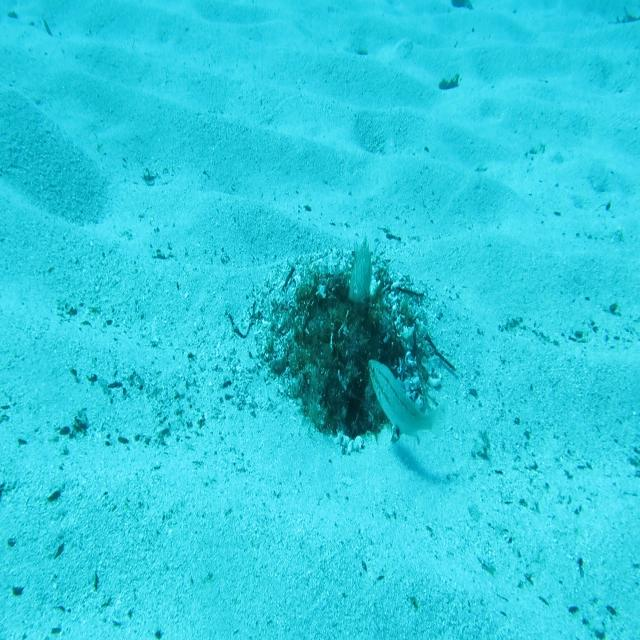NIP_CORE: (346, 236, 376, 310)
core_nest: (322, 289, 369, 350)
female: (367, 357, 449, 449)
nest: (244, 240, 448, 476)
vegetation: (434, 76, 464, 92)
